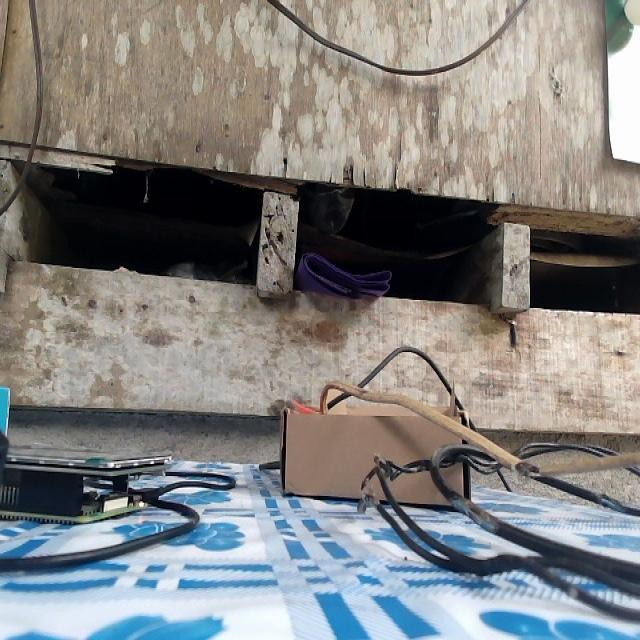-: (448, 492, 494, 528), (356, 477, 380, 508), (512, 457, 541, 479)
